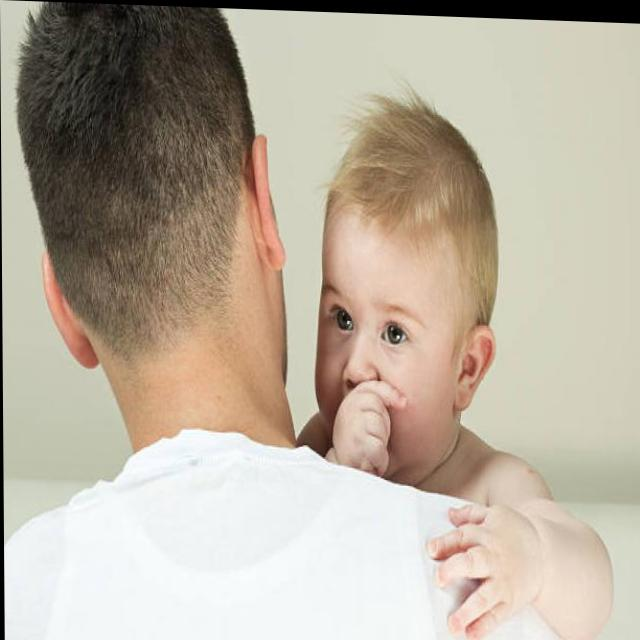no helmet: (28, 1, 289, 423)
